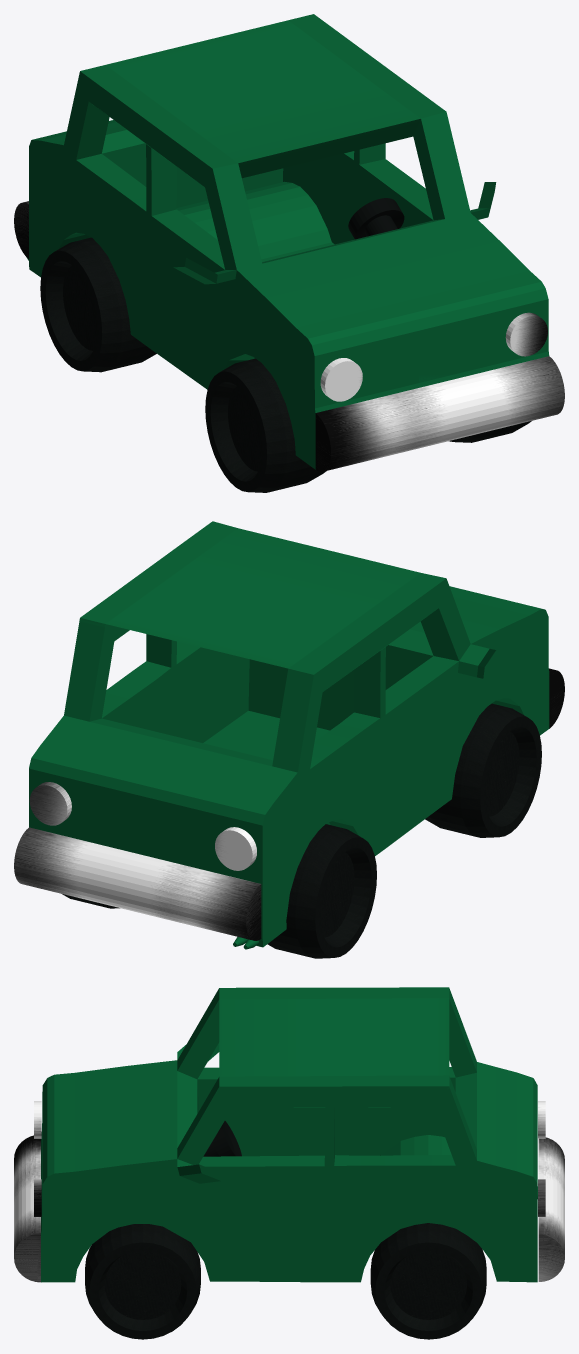
The model's file is green car.fbx.
The picture shows the model from 3 angles, top to bottom: view 1: azimuth 30°, elevation 25°; view 2: azimuth 150°, elevation 25°; view 3: azimuth 270°, elevation 25°; orthographic projection. The views are drawn at different scales.
Visible parts, largest first — view 1: green car; view 2: green car; view 3: green car.
Boxes of the visible parts, x1,y1,x2,y2 form: green car: (14, 14, 564, 492); green car: (14, 521, 564, 958); green car: (14, 987, 564, 1339).
Size of the model in its own units: 1440 by 1274 by 2558.
